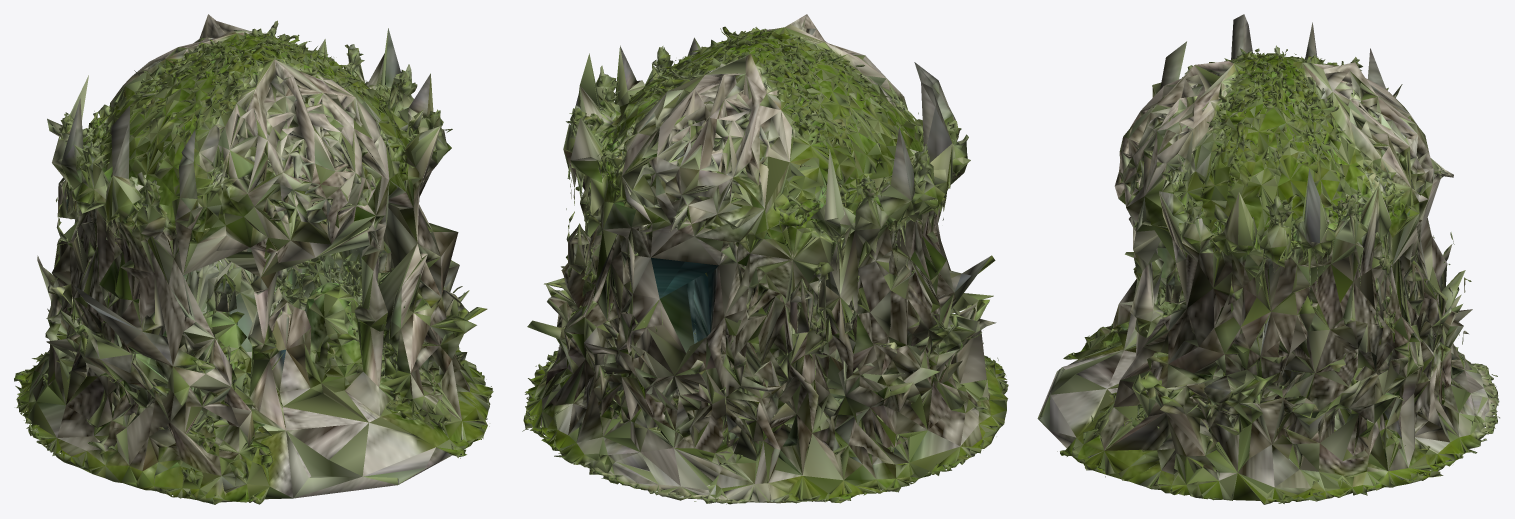
The model's file is Verdant_Citadel_of_th.glb.
3 renders of one model, left to right at view 1: azimuth 30°, elevation 25°; view 2: azimuth 150°, elevation 25°; view 3: azimuth 270°, elevation 25°, orthographic. The views are drawn at different scales.
Visible parts, largest first — view 1: Verdant_Citadel_of_th; view 2: Verdant_Citadel_of_th; view 3: Verdant_Citadel_of_th.
Part boxes in pixels (box(x1,y1,x2,y2)): Verdant_Citadel_of_th: box(14, 14, 493, 504); Verdant_Citadel_of_th: box(522, 14, 1008, 504); Verdant_Citadel_of_th: box(1037, 14, 1499, 504).
Bounding box in the file's own units: 1.9 × 1.59 × 1.9.
Materials: 1 (1 with a texture image).
